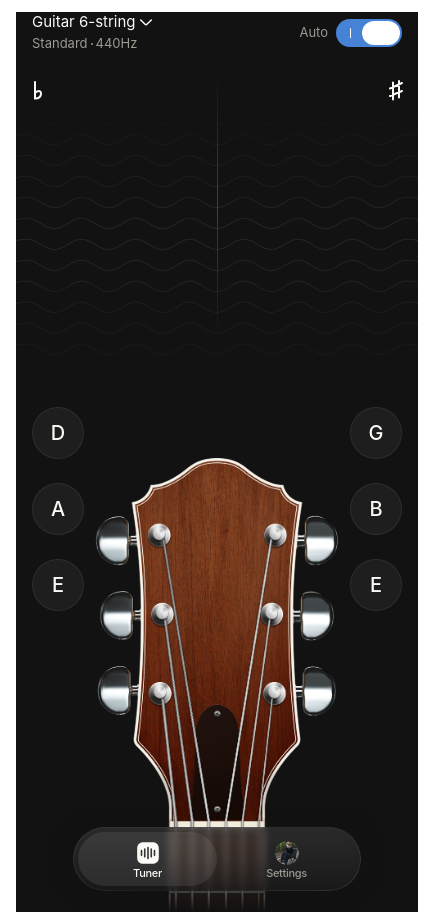
Scenario: AppShell › does not remount the footer when navigating between screens
Click the button "Settings" at (286, 859), box [217, 832, 356, 886]
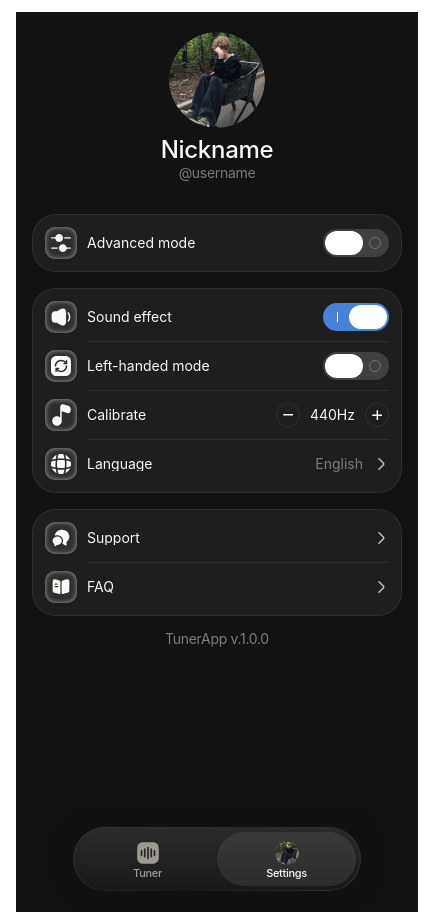
Check: the text "Advanced mode" is shown, box [87, 234, 195, 251]
Click the button "Tuner" at (148, 859), box [78, 832, 217, 886]
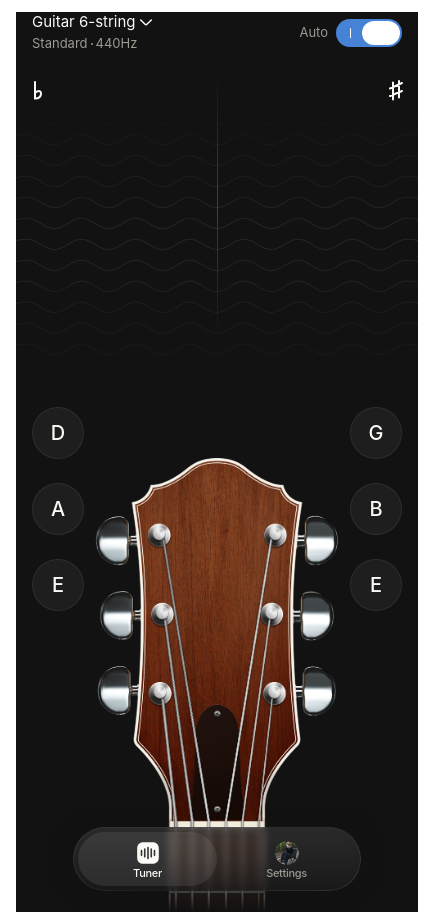
Check: the text "Guitar 6-string" is shown, box [32, 12, 136, 31]
